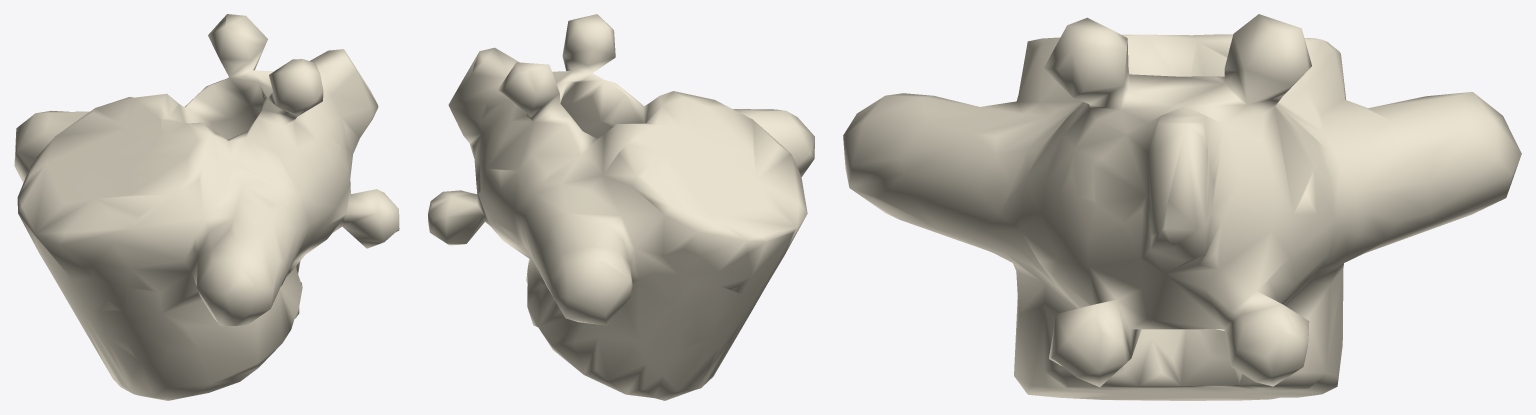
Rendered from cervical_4.glb.
The picture shows the model from 3 angles, left to right: view 1: azimuth 30°, elevation 25°; view 2: azimuth 150°, elevation 25°; view 3: azimuth 270°, elevation 25°; orthographic projection. The views are drawn at different scales.
Visible parts, largest first — view 1: geometry_0; view 2: geometry_0; view 3: geometry_0.
Boxes of the visible parts, x1,y1,x2,y2 form: geometry_0: (14,14,399,400); geometry_0: (428,14,814,400); geometry_0: (843,14,1521,400).
Bounding box in the file's own units: 0.2846 × 0.2514 × 0.3265.
